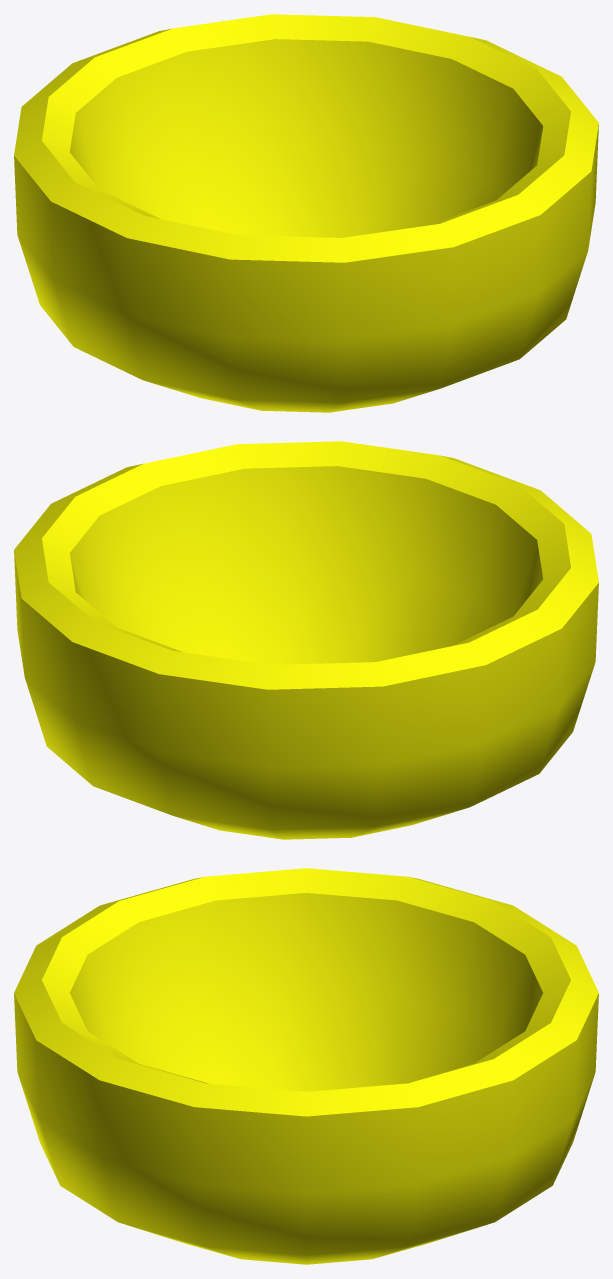
Rendered from bowl_small.gltf.
3 renders of one model, top to bottom at view 1: azimuth 30°, elevation 25°; view 2: azimuth 150°, elevation 25°; view 3: azimuth 270°, elevation 25°, orthographic.
Visible parts, largest first — view 1: bowl_small; view 2: bowl_small; view 3: bowl_small.
Part boxes in pixels (x1,y1,x2,y2): bowl_small: (14,14,598,412); bowl_small: (14,441,598,839); bowl_small: (14,868,598,1264).
Bounding box in the file's own units: 0.75 × 0.3 × 0.75.
1 material, 1 textured.
